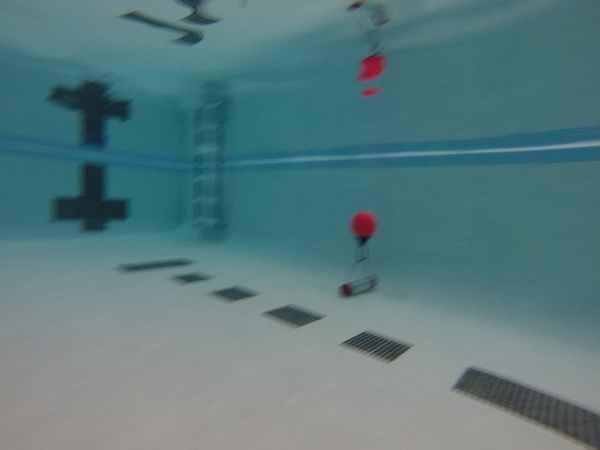buoy_red: (350, 209, 378, 248)
